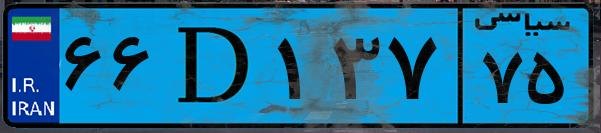1: (270, 28, 330, 110)
3: (330, 28, 385, 110)
5: (525, 38, 570, 115)
6: (57, 26, 110, 100), (110, 28, 158, 98)
7: (385, 28, 445, 110), (475, 38, 525, 113)
D: (158, 12, 270, 120)
